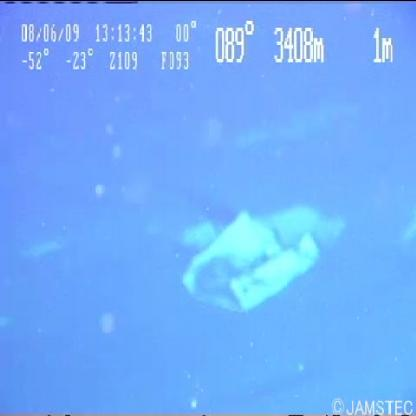Rác: (171, 181, 372, 318)
